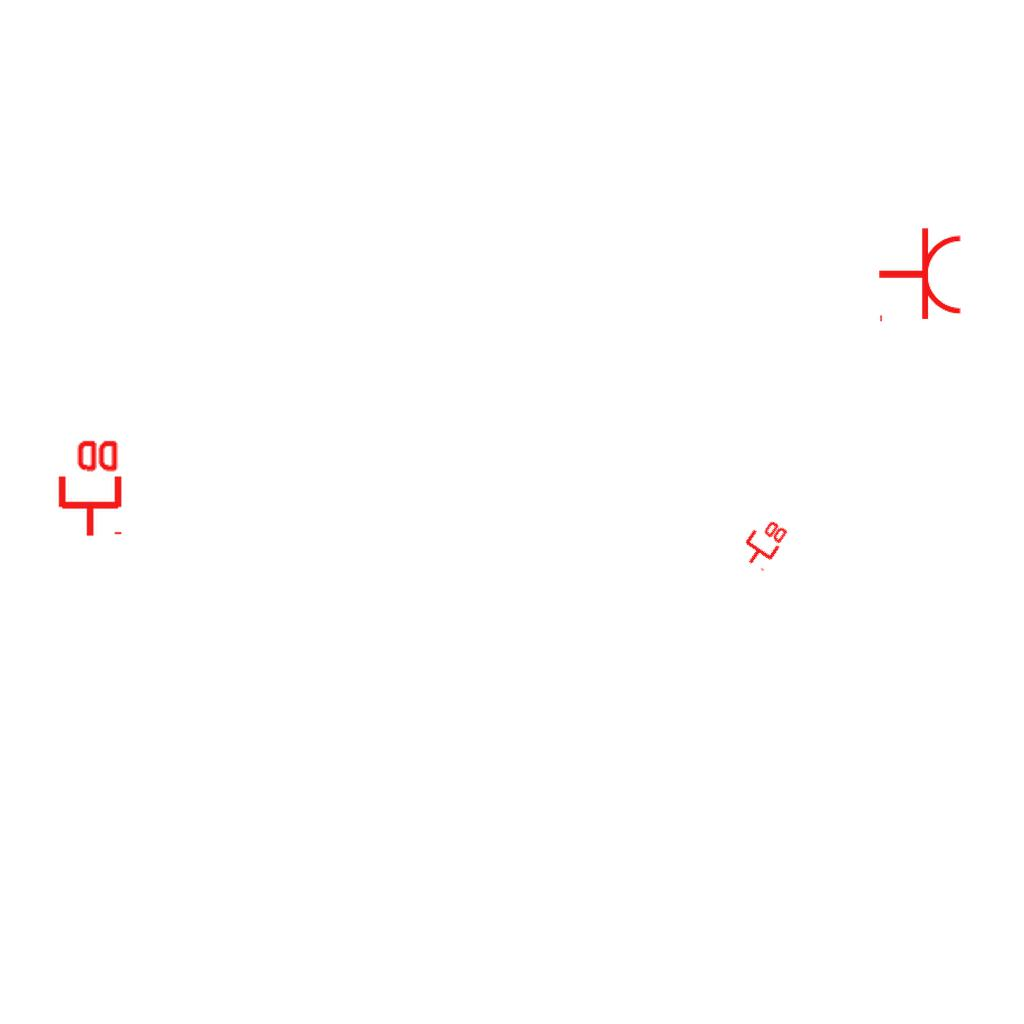Datenanschluss_zweifach: (54, 436, 123, 539), (734, 511, 792, 574)
Schukosteckdose_einfach: (877, 226, 964, 326)
